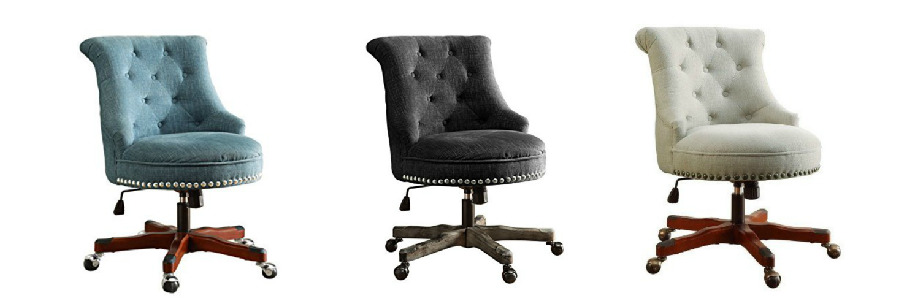chairs: (629, 28, 842, 290), (72, 33, 282, 297), (362, 35, 569, 284)
